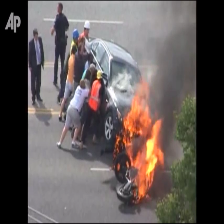fire_h: (123, 67, 164, 201)
fire_l: (114, 135, 120, 156), (117, 162, 121, 170), (125, 160, 129, 168)
